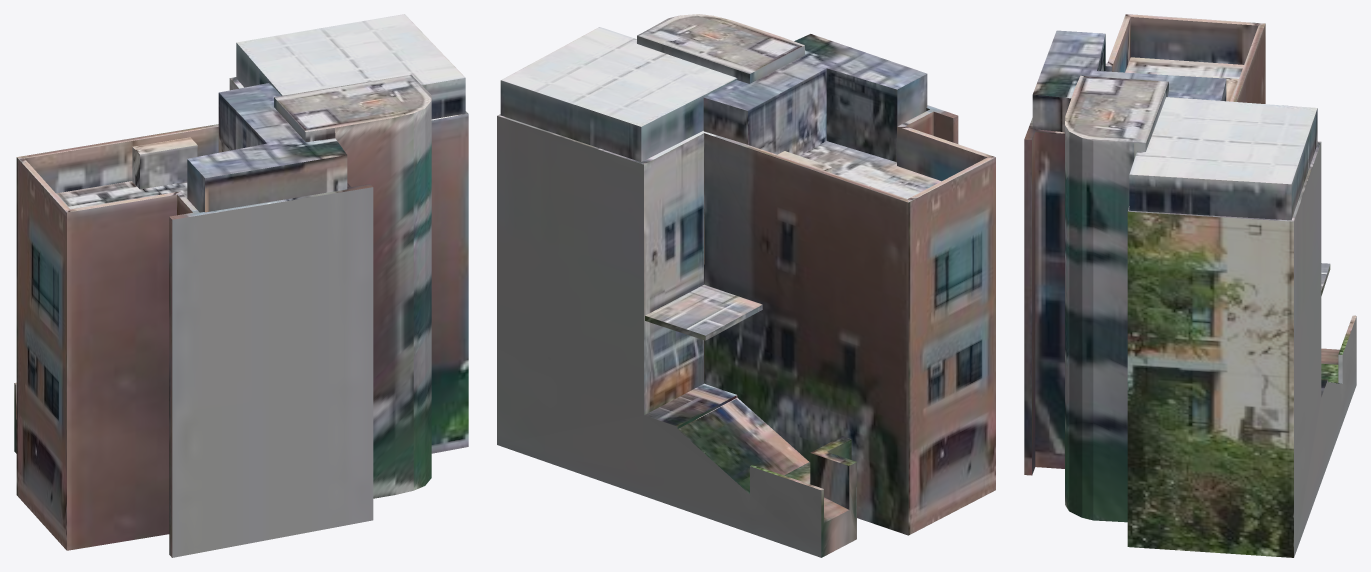
3 views of the same model, side by side, from view 1: azimuth 30°, elevation 25°; view 2: azimuth 150°, elevation 25°; view 3: azimuth 270°, elevation 25° (orthographic). The views are drawn at different scales.
Parts seen in each view (by area): view 1: B281184037001063A0; view 2: B281184037001063A0; view 3: B281184037001063A0.
Boxes of the visible parts, x1,y1,x2,y2 form: B281184037001063A0: [14, 14, 468, 557]; B281184037001063A0: [497, 14, 995, 557]; B281184037001063A0: [1024, 14, 1356, 557].
Size of the model in its own units: 13.8 by 11.92 by 9.34.
1 material, 1 textured.
